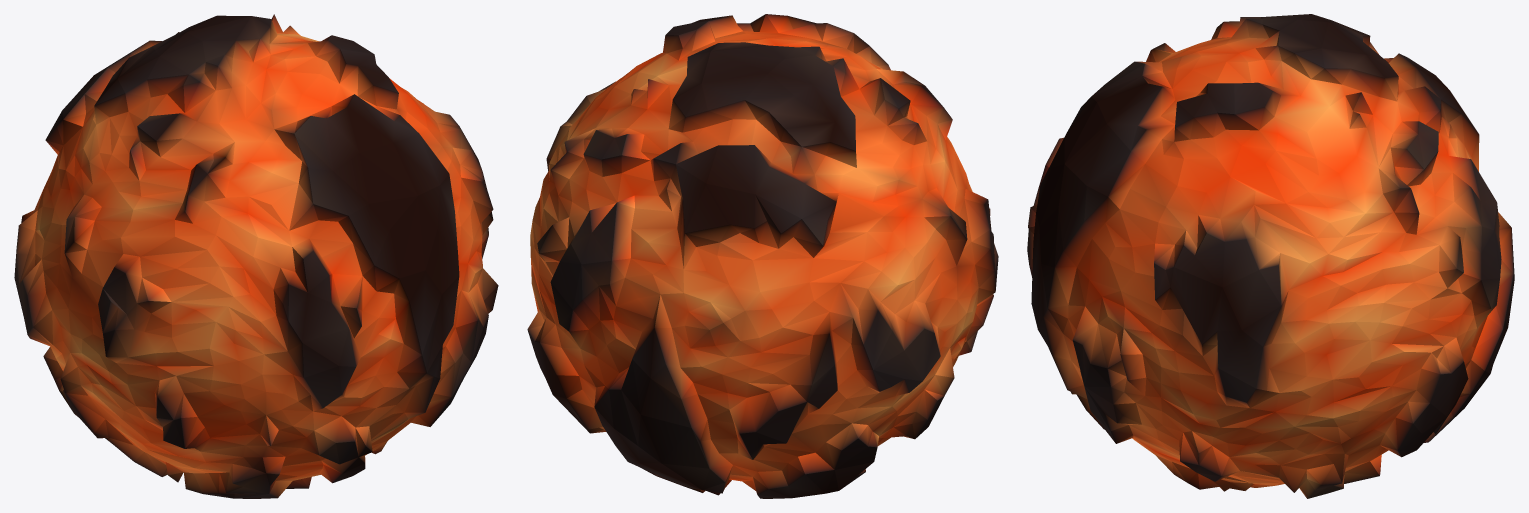
The model's file is barren_13.fbx.
3 views of the same model, side by side, from view 1: azimuth 30°, elevation 25°; view 2: azimuth 150°, elevation 25°; view 3: azimuth 270°, elevation 25° (orthographic).
Parts seen in each view (by area): view 1: filecache1; view 2: filecache1; view 3: filecache1.
Boxes of the visible parts, x1,y1,x2,y2 form: filecache1: (14, 14, 498, 498); filecache1: (527, 14, 998, 498); filecache1: (1027, 14, 1514, 498).
Bounding box in the file's own units: 2.14 × 2.16 × 2.17.
